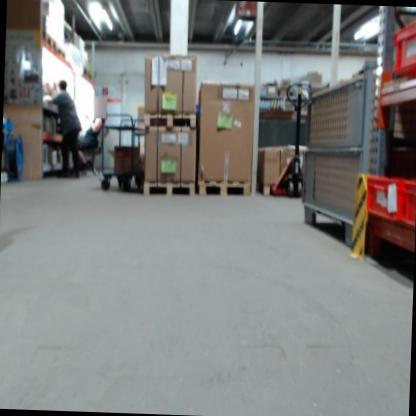pallet: (142, 179, 196, 198), (143, 112, 198, 130), (196, 179, 249, 197)
pallet_truck: (268, 77, 317, 200)
small_load_carrier: (364, 173, 406, 224), (387, 20, 416, 82), (402, 177, 416, 227)
stillage: (291, 58, 375, 246)
